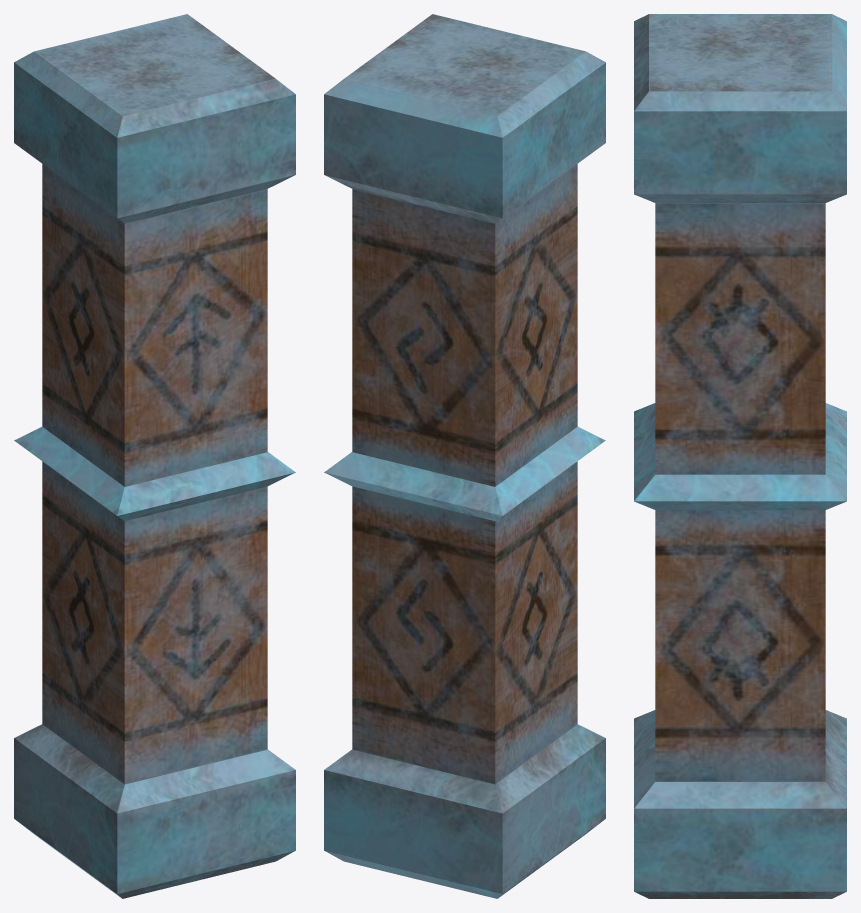
3 renders of one model, left to right at view 1: azimuth 30°, elevation 25°; view 2: azimuth 150°, elevation 25°; view 3: azimuth 270°, elevation 25°, orthographic. The views are drawn at different scales.
Parts seen in each view (by area): view 1: Pillar; view 2: Pillar; view 3: Pillar.
Boxes of the visible parts, x1=… form: Pillar: x1=14, y1=14, x2=295, y2=898; Pillar: x1=324, y1=14, x2=605, y2=898; Pillar: x1=634, y1=14, x2=846, y2=898.
Size of what is drawn, in the model's own units: 0.4909 by 2.05 by 0.4909.
1 material, 1 textured.
